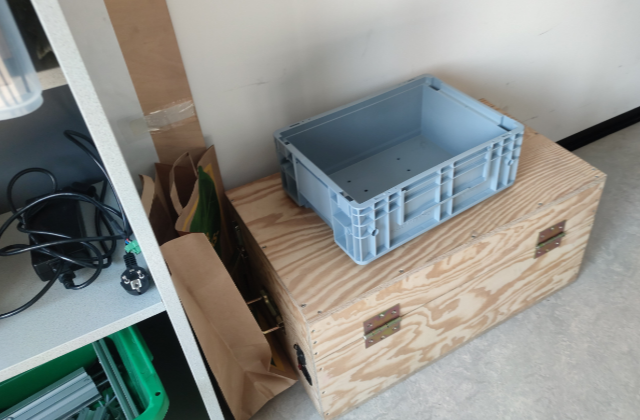Box: (271, 70, 524, 266)
